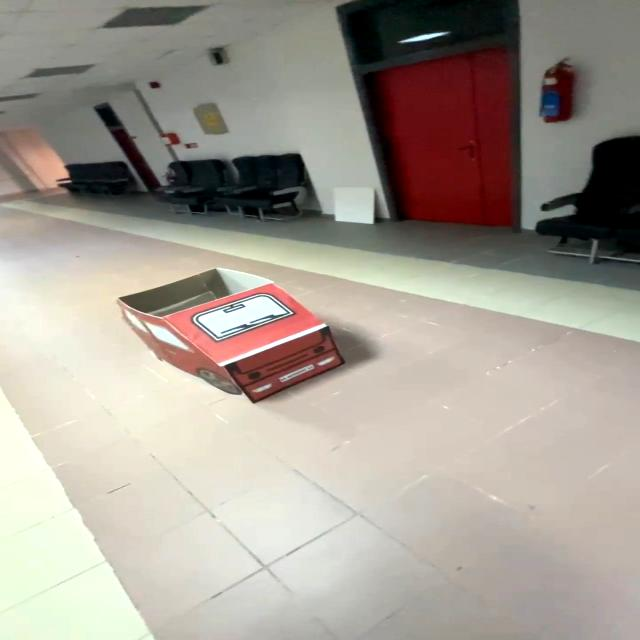red_car: (86, 260, 404, 423)
